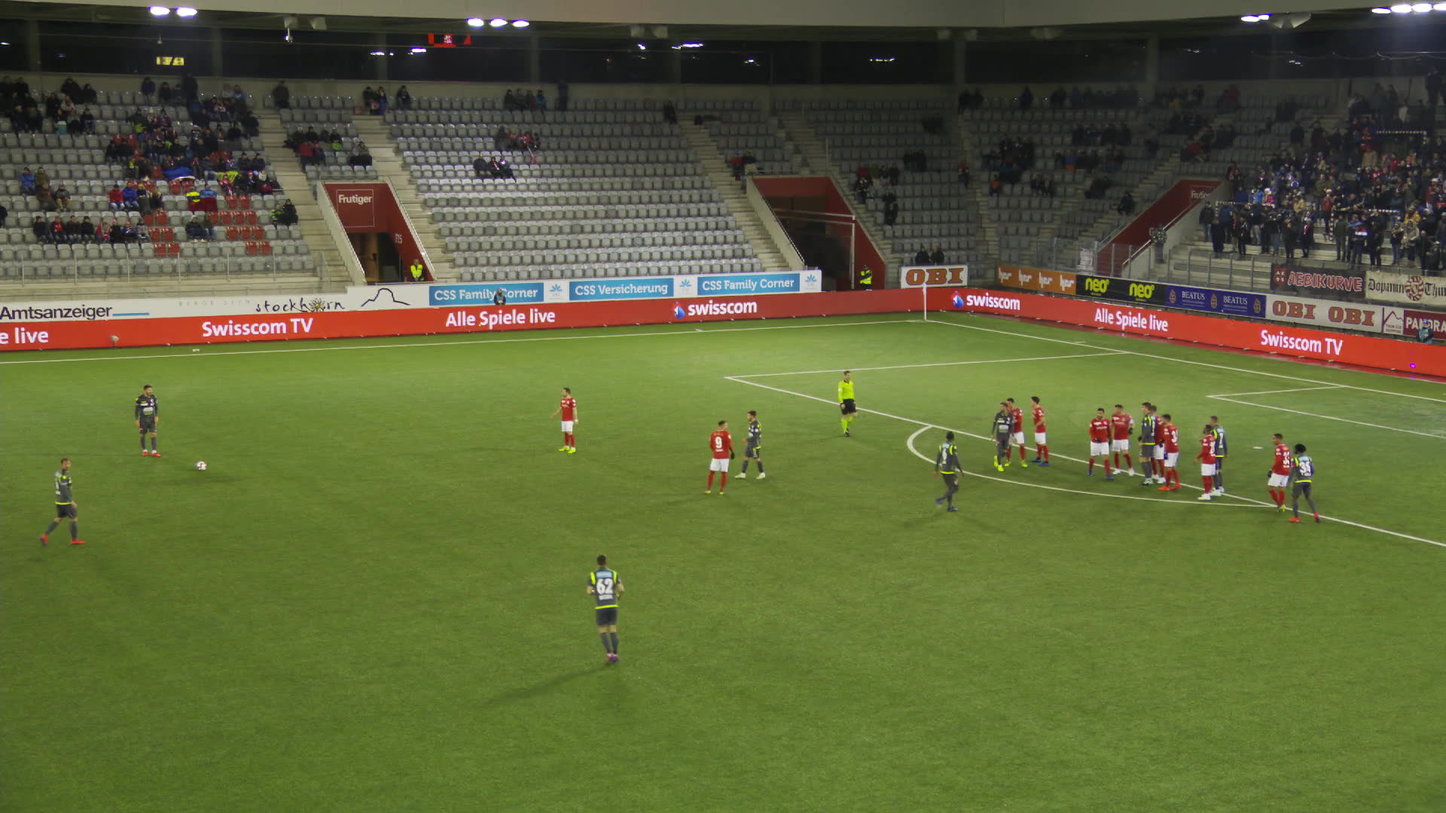ball: (196, 460, 206, 470)
player: (41, 457, 90, 545), (582, 556, 623, 661), (1283, 443, 1318, 522), (935, 429, 961, 512), (1084, 406, 1112, 479), (134, 384, 160, 457), (735, 410, 762, 479), (708, 419, 732, 494), (1205, 415, 1227, 495), (1268, 433, 1290, 512), (1109, 404, 1133, 475), (1157, 413, 1179, 490), (1194, 424, 1216, 498), (991, 400, 1014, 470), (1024, 397, 1046, 463), (554, 386, 576, 452), (1011, 397, 1030, 467), (1147, 406, 1164, 483), (1137, 403, 1153, 484)
referee: (837, 370, 857, 436)
